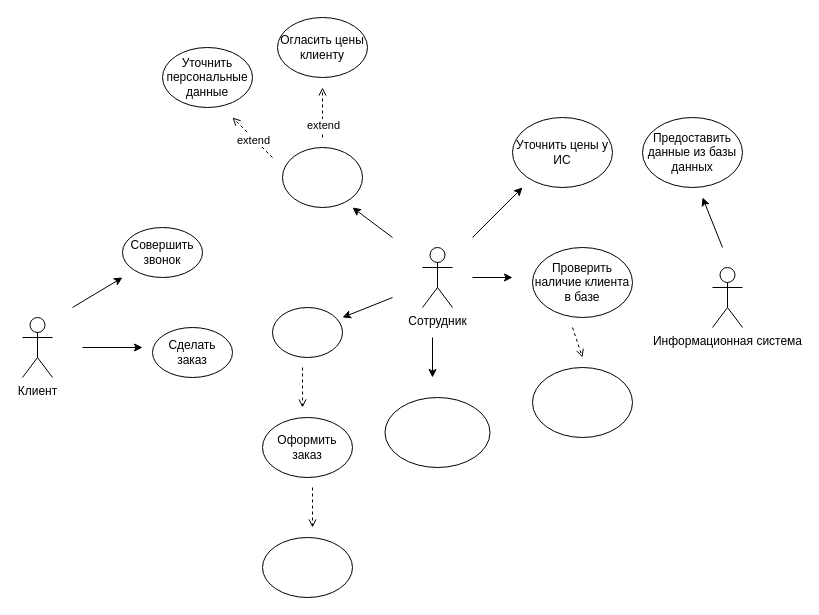
The diagram is 819 pixels wide and 615 high, and some of its shapes have lost their labels. Here are the shapes that lost their labels. From the top down, the centre of each, then its label:
the point at 322,177: Ответить на звонок
the point at 307,332: Принять заказ
the point at 582,402: Внести нового клиента в базу данных
the point at 437,432: В случае необходимости удалить заказ
the point at 307,567: Сохранить заказ в базе данных
